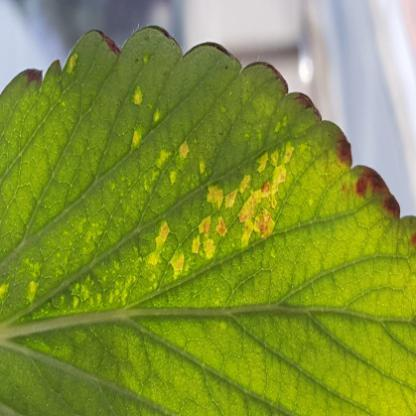Strawberry_Angular_LeafSpot: (0, 75, 334, 332)
